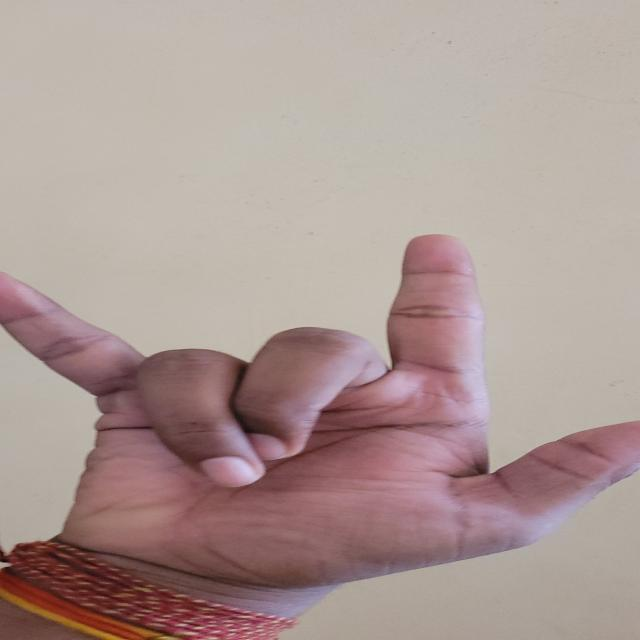i like you: (8, 226, 640, 640)
